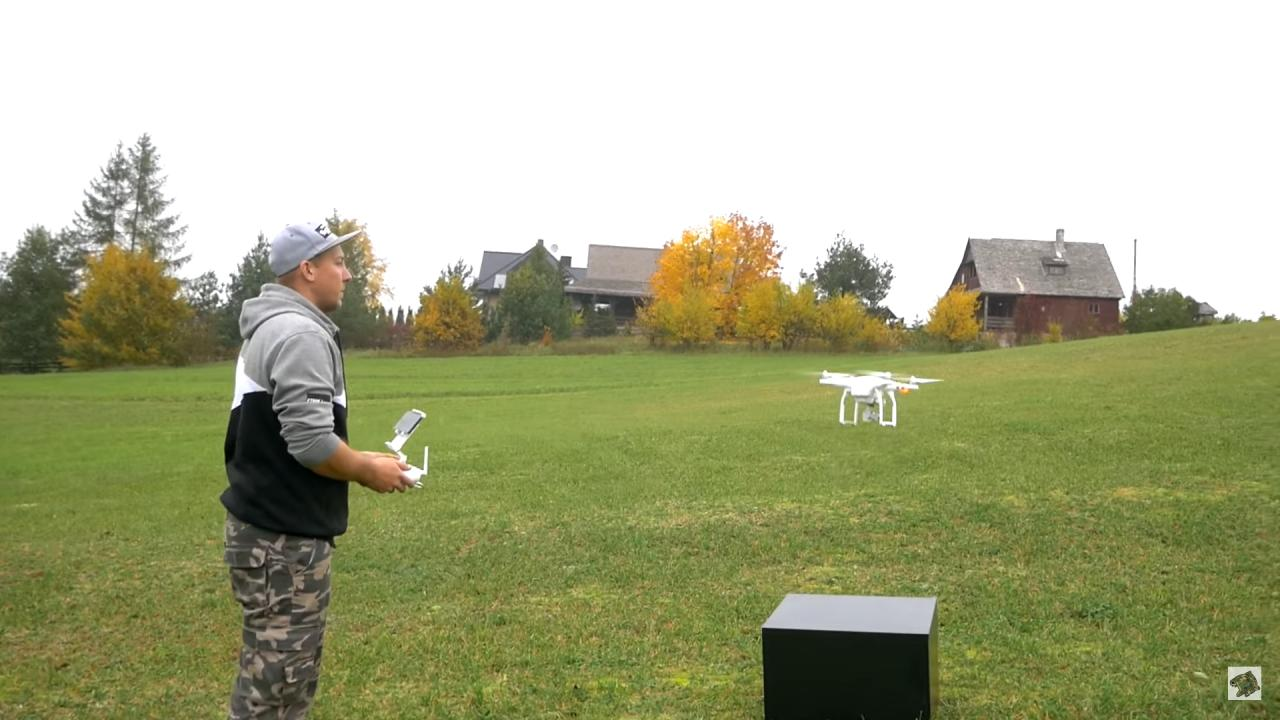Drone: (791, 352, 948, 436)
